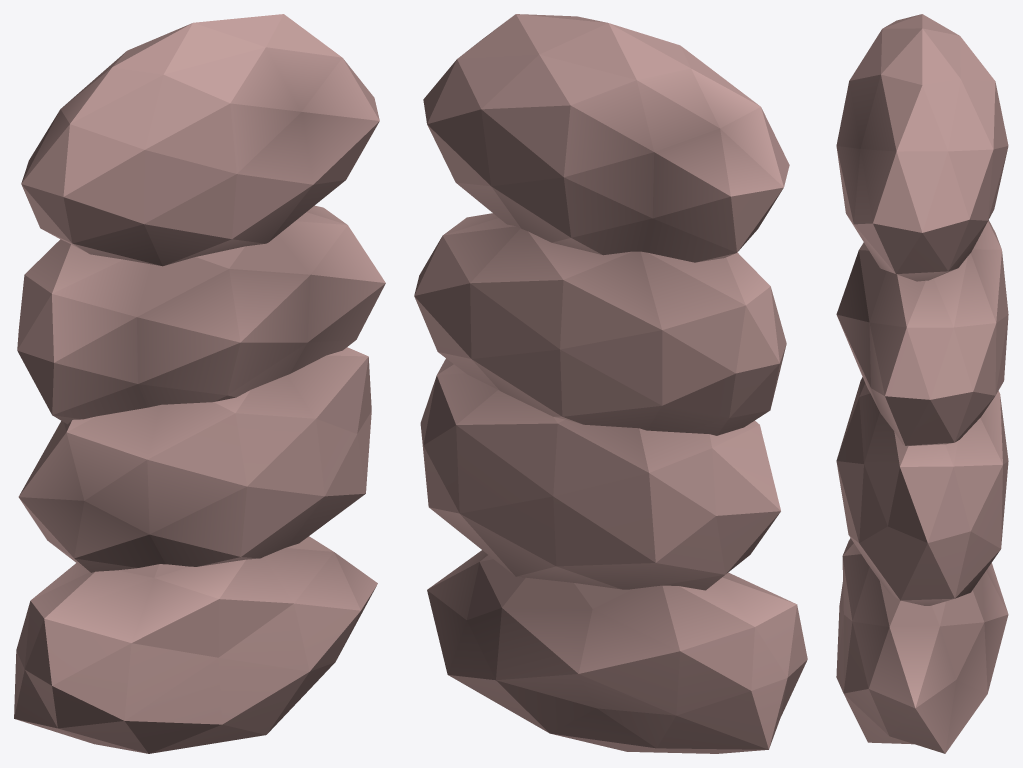
File: flesh-corner.glb
3 views of the same model, side by side, from view 1: azimuth 30°, elevation 25°; view 2: azimuth 150°, elevation 25°; view 3: azimuth 270°, elevation 25° (orthographic). The views are drawn at different scales.
Parts seen in each view (by area): view 1: body; view 2: body; view 3: body.
Part boxes in pixels (left/top/right/bottom): body: left=14, top=14, right=385, bottom=753; body: left=414, top=14, right=807, bottom=753; body: left=836, top=14, right=1008, bottom=753.
Size of the model in its own units: 0.7 by 1.35 by 0.2999.
